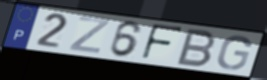2: (33, 13, 69, 50)
6: (108, 20, 142, 59)
B: (174, 28, 218, 69)
F: (139, 22, 186, 62)
G: (215, 35, 253, 71)
Z: (68, 15, 113, 55)
